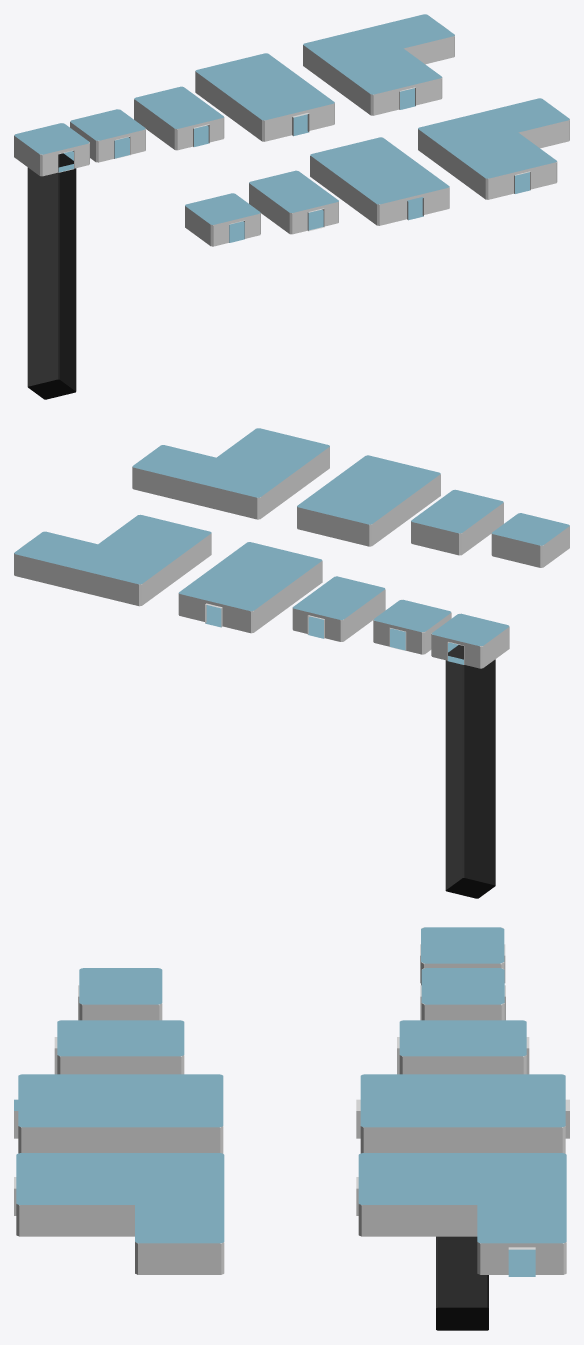
File: Low-Poly Laboratory_Iso.fbx
The picture shows the model from 3 angles, top to bottom: view 1: azimuth 30°, elevation 25°; view 2: azimuth 150°, elevation 25°; view 3: azimuth 270°, elevation 25°; orthographic projection. The views are drawn at different scales.
Parts seen in each view (by area): view 1: Lab_Room_Pit_Iso, Lab_Room_Single_4_Iso, Lab_Room_Double_4_Iso, Lab_Room_Double_3_Iso, Lab_Room_Single_3_Iso, Lab_Room_Double_2_Iso, Lab_Room_Single_2_Iso, Lab_Room_Single_1_Iso, Lab_Room_Double_1_Iso; view 2: Lab_Room_Pit_Iso, Lab_Room_Double_4_Iso, Lab_Room_Single_4_Iso, Lab_Room_Double_3_Iso, Lab_Room_Single_3_Iso, Lab_Room_Double_2_Iso, Lab_Room_Single_2_Iso, Lab_Room_Single_1_Iso, Lab_Room_Double_1_Iso; view 3: Lab_Room_Double_4_Iso, Lab_Room_Single_4_Iso, Lab_Room_Double_3_Iso, Lab_Room_Single_3_Iso, Lab_Room_Pit_Iso, Lab_Room_Double_2_Iso, Lab_Room_Single_2_Iso, Lab_Room_Double_1_Iso, Lab_Room_Single_1_Iso.
Boxes of the visible parts, <box> form: Lab_Room_Pit_Iso: <box>14,123,89,399</box>; Lab_Room_Single_4_Iso: <box>418,98,569,199</box>; Lab_Room_Double_4_Iso: <box>303,14,454,115</box>; Lab_Room_Double_3_Iso: <box>195,53,334,141</box>; Lab_Room_Single_3_Iso: <box>310,137,449,225</box>; Lab_Room_Double_2_Iso: <box>134,86,224,150</box>; Lab_Room_Single_2_Iso: <box>249,170,338,234</box>; Lab_Room_Single_1_Iso: <box>185,193,260,246</box>; Lab_Room_Double_1_Iso: <box>70,109,145,162</box>; Lab_Room_Pit_Iso: <box>431,613,509,898</box>; Lab_Room_Double_4_Iso: <box>14,514,211,606</box>; Lab_Room_Single_4_Iso: <box>132,428,329,519</box>; Lab_Room_Double_3_Iso: <box>178,542,322,633</box>; Lab_Room_Single_3_Iso: <box>297,455,440,546</box>; Lab_Room_Double_2_Iso: <box>292,576,385,641</box>; Lab_Room_Single_2_Iso: <box>411,489,503,555</box>; Lab_Room_Single_1_Iso: <box>491,513,569,567</box>; Lab_Room_Double_1_Iso: <box>373,599,451,654</box>; Lab_Room_Double_4_Iso: <box>356,1153,566,1276</box>; Lab_Room_Single_4_Iso: <box>14,1153,224,1274</box>; Lab_Room_Double_3_Iso: <box>356,1074,569,1153</box>; Lab_Room_Single_3_Iso: <box>14,1074,223,1153</box>; Lab_Room_Pit_Iso: <box>420,927,505,1330</box>; Lab_Room_Double_2_Iso: <box>397,1020,529,1074</box>; Lab_Room_Single_2_Iso: <box>54,1020,184,1074</box>; Lab_Room_Double_1_Iso: <box>420,968,505,1020</box>; Lab_Room_Single_1_Iso: <box>78,968,162,1020</box>.
Bounding box in the file's own units: 7211 × 3951 × 5328.
